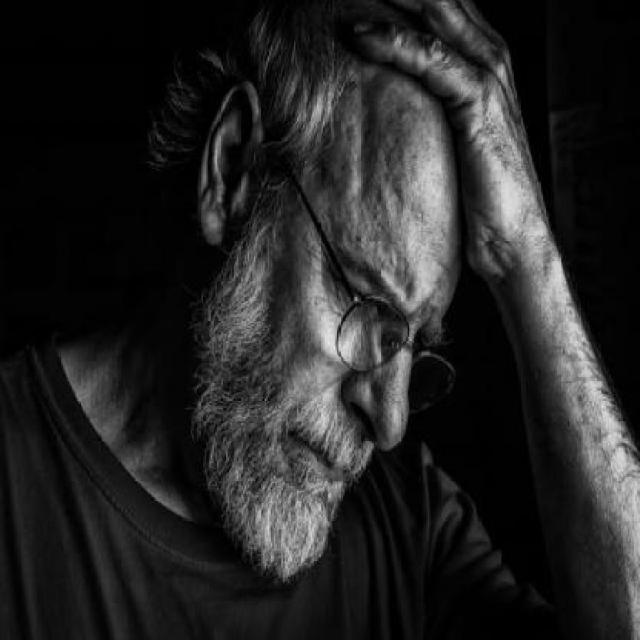sad: (289, 238, 417, 490)
